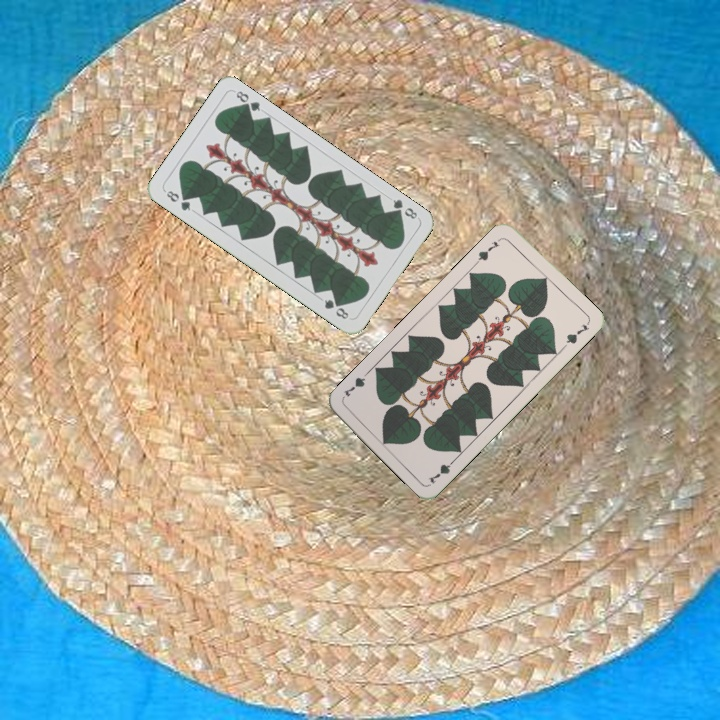G7: (424, 454, 459, 486), (472, 237, 502, 266)
G8: (388, 195, 420, 222), (162, 186, 193, 213)
